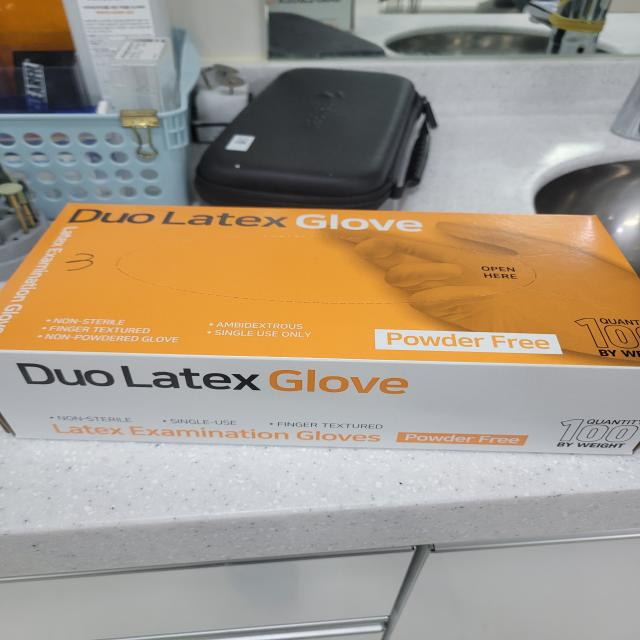glove: (0, 180, 640, 467)
